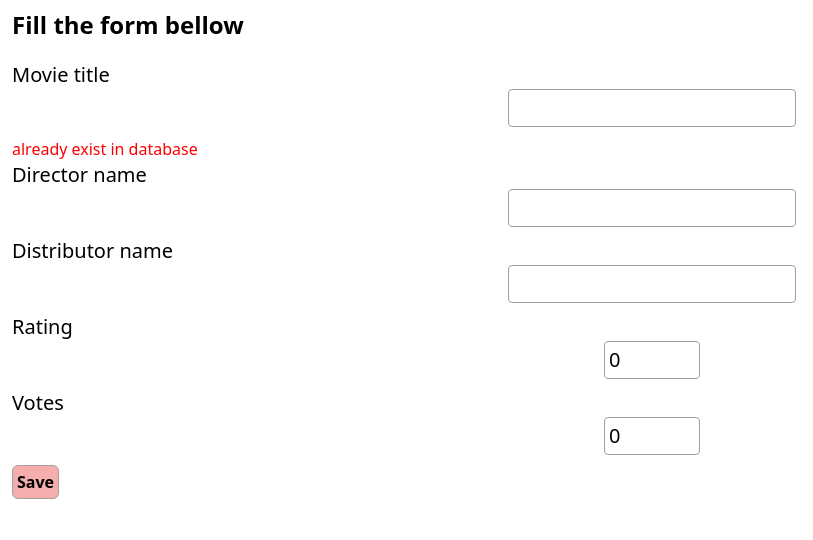
Test: Test the AddMovieFormComponent › validation rating value more that 10 should be trigered
The image size is (813, 540).
Type "11.1" into the number field with test id "rating" at (652, 360), box top-left (604, 341), bottom-right (700, 379)
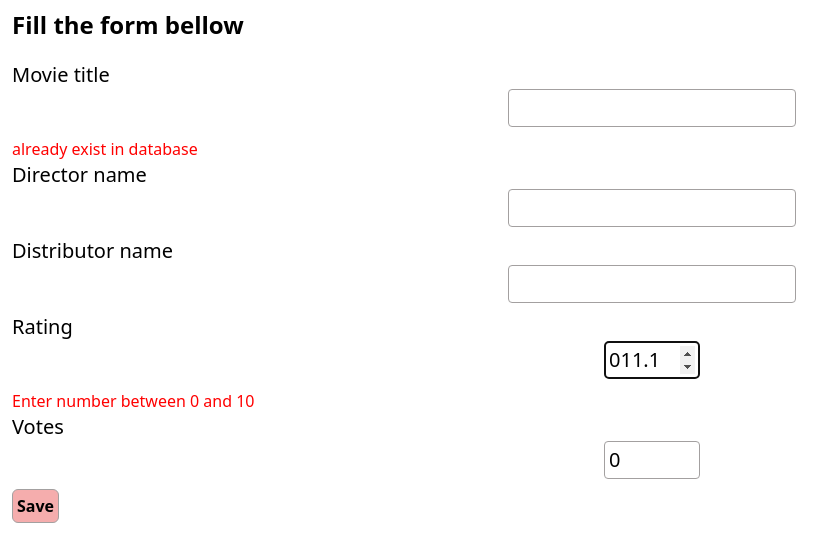
Expected: the button with test id "addMovieSubmit" is disabled, top-left (12, 489), bottom-right (59, 523)
Expected: the text with test id "ratingError" reads "Enter number between 0 and 10", top-left (12, 390), bottom-right (254, 412)
